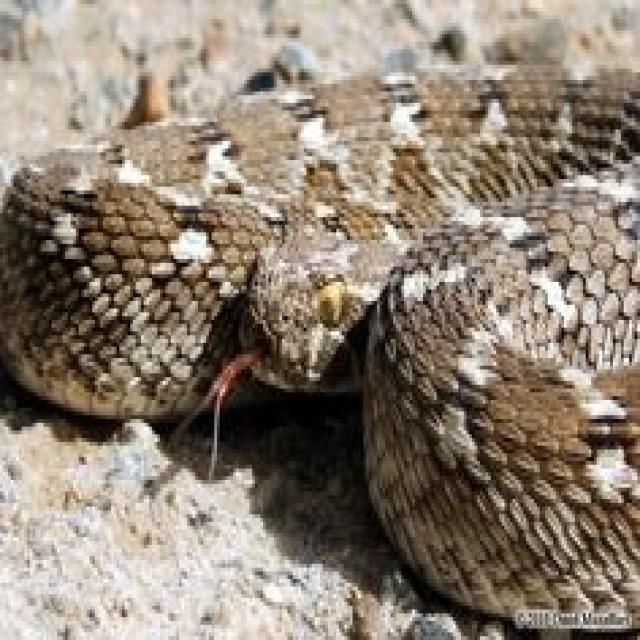Snake: (0, 44, 614, 588)
